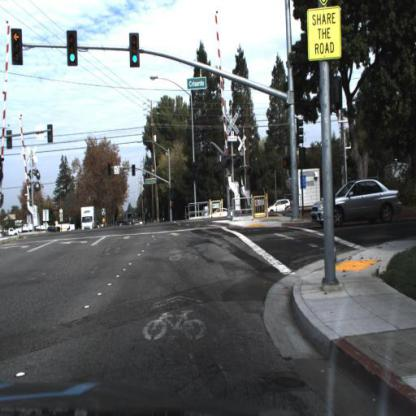car: (312, 174, 404, 228), (265, 192, 299, 217), (211, 201, 230, 221)
trafficLight: (193, 161, 201, 182)
trafficLight-Green: (67, 29, 81, 71), (128, 30, 140, 69), (66, 26, 77, 68)
truck: (78, 202, 96, 236), (80, 204, 96, 230)
